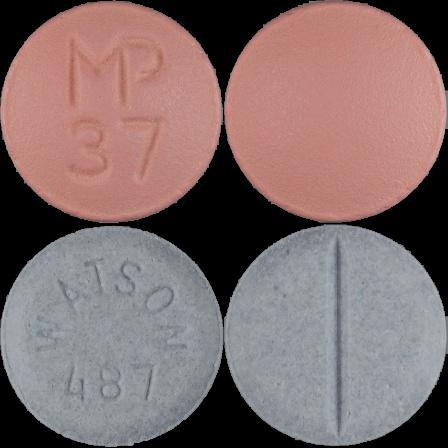50268-279: (0, 0, 224, 224)
